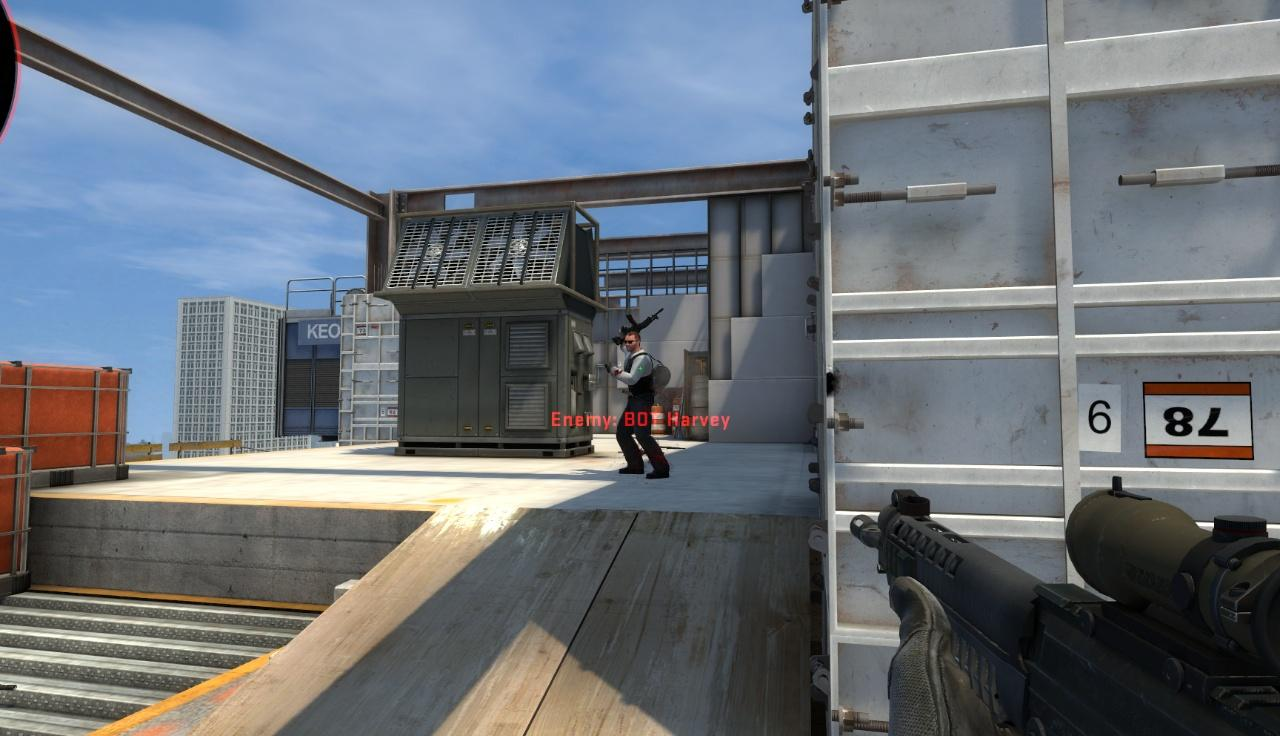rifle: (847, 477, 1280, 734)
tt: (611, 323, 669, 477)
tthead: (624, 332, 642, 351)
